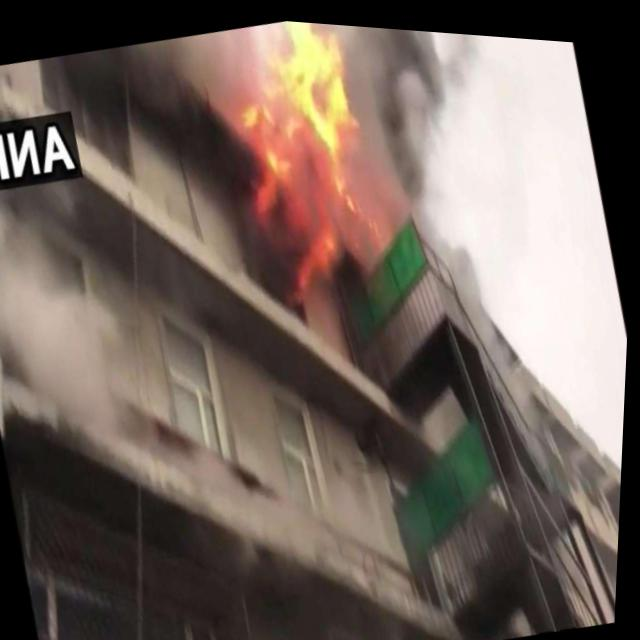fire: (211, 13, 403, 300)
